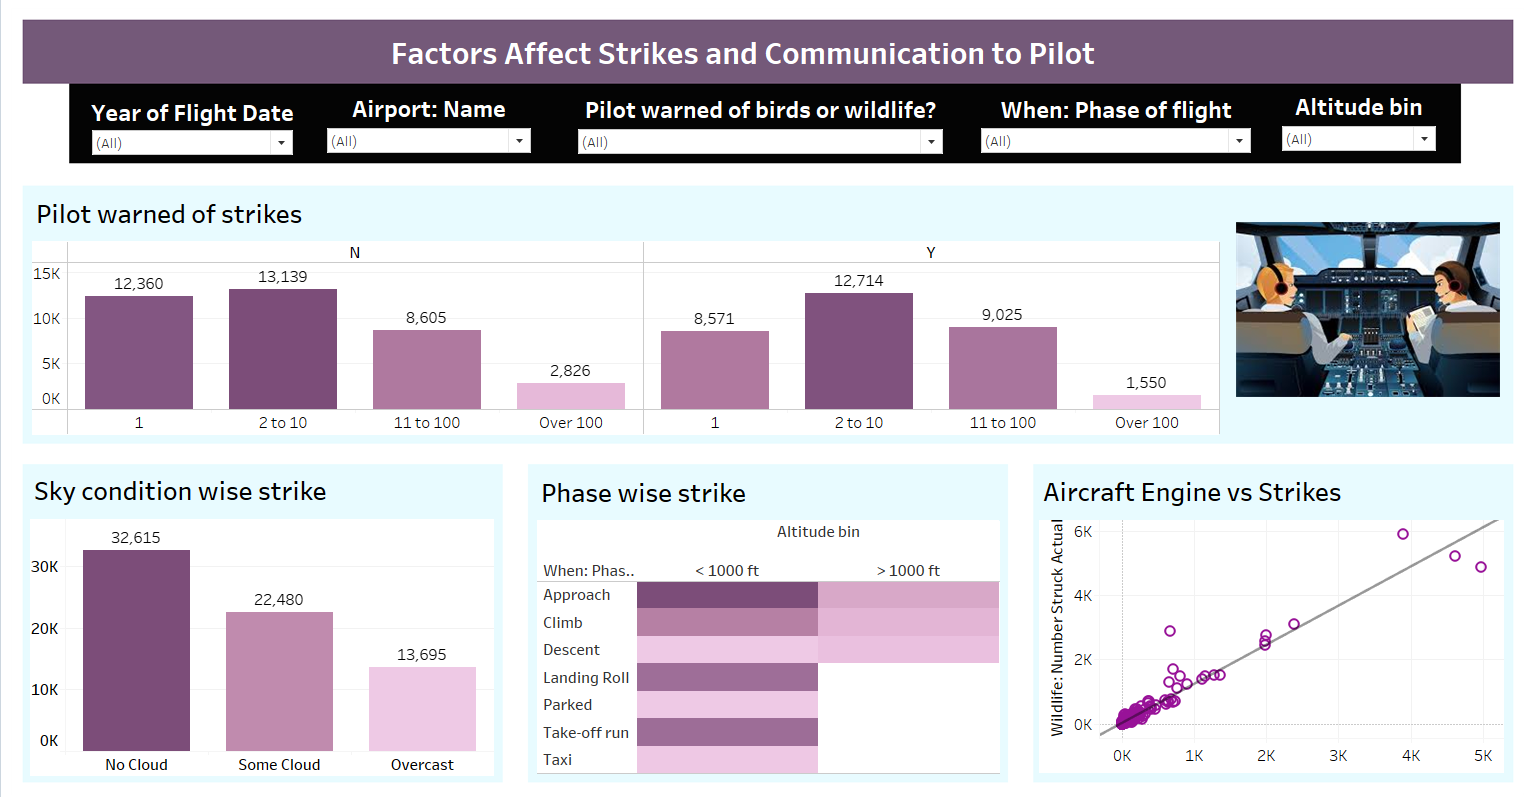

The dashboard page shown, as its layout file describes it:
{"tool":"tableau","page":{"name":"Dashboard 6","canvas":[1000,1000],"units":"permille","ordinal":5},"visuals":[{"type":"image","param":"Image/Group 1 (8).png","box":[4.8,9.9,990.3,980.3]},{"type":"text","box":[146.1,32.1,605.9,72.8]},{"type":"filter","title":"3(a) 1 - Part 2","param":"[federated.1rhwjbx1qr7v7i166l8qc01kg7mb].[none:Altitude bin:nk]","box":[772.5,115.9,96.6,119.6]},{"type":"filter","title":"4 (a,b) - Part 2","param":"[federated.1rhwjbx1qr7v7i166l8qc01kg7mb].[none:Airport: Name:nk]","box":[196.1,118.4,126.7,78.9]},{"type":"filter","title":"4 (a,b) - Part 2","param":"[federated.1rhwjbx1qr7v7i166l8qc01kg7mb].[none:Pilot warned of birds or wildlife","box":[347.6,119.6,223.9,119.6]},{"type":"filter","title":"3(a) 1 - Part 2","param":"[federated.1rhwjbx1qr7v7i166l8qc01kg7mb].[none:When: Phase of flight:nk]","box":[590.8,119.6,166.6,76.5]},{"type":"filter","title":"4 (a,b) - Part 2","param":"[federated.1rhwjbx1qr7v7i166l8qc01kg7mb].[yr:FlightDate:ok]","box":[54.3,123.3,124.9,74]},{"type":"worksheet","title":"4 (a,b) - Part 2","mark":"Automatic","rows":[" Number Struck Actual"],"cols":["Pilot warned of birds or wildlife?"," Number struck"],"box":[19.9,241.7,717,299.6]},{"type":"image","param":"Image/download (6).jpg","box":[746.5,278.7,159.3,218.2]},{"type":"worksheet","title":"3(a) - Part 2","mark":"Automatic","rows":[" Number Struck Actual"],"cols":[" Sky"],"box":[18.7,583.2,280,378.6]},{"type":"worksheet","title":"3(a) 2 - Part 2","mark":"Automatic","rows":[" Number Struck Actual"],"cols":[" Number of engines?"],"box":[627.6,584.5,280.6,373.6]},{"type":"worksheet","title":"3(a) 1 - Part 2","mark":"Automatic","rows":[" Phase of flight"],"cols":["Altitude bin"],"box":[324.7,585.7,279.4,373.6]}]}

Visuals, with their boxes on the dashboard's canvas, which has no fixed pixel size, in thousandths of its width and height (x1, y1, x2, y2). These are canvas units, not pixel positions in the 1537x797 screenshot, which may show the page scaled, cropped or inside an application window:
image: locate(5, 10, 995, 990)
text: locate(146, 32, 752, 105)
"3(a) 1 - Part 2" filter: locate(772, 116, 869, 236)
"4 (a,b) - Part 2" filter: locate(196, 118, 323, 197)
"4 (a,b) - Part 2" filter: locate(348, 120, 572, 239)
"3(a) 1 - Part 2" filter: locate(591, 120, 757, 196)
"4 (a,b) - Part 2" filter: locate(54, 123, 179, 197)
"4 (a,b) - Part 2" worksheet: locate(20, 242, 737, 541)
image: locate(746, 279, 906, 497)
"3(a) - Part 2" worksheet: locate(19, 583, 299, 962)
"3(a) 2 - Part 2" worksheet: locate(628, 584, 908, 958)
"3(a) 1 - Part 2" worksheet: locate(325, 586, 604, 959)
